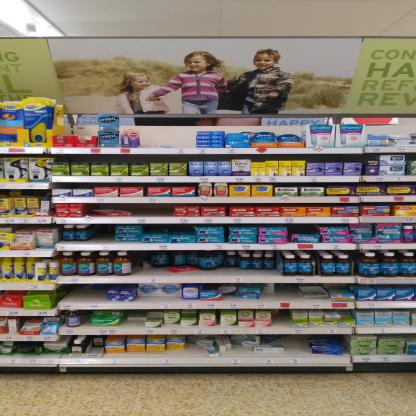Void: (141, 125, 194, 148), (59, 285, 104, 302), (202, 268, 282, 275), (135, 204, 175, 216), (264, 338, 310, 348), (145, 225, 190, 234), (88, 226, 112, 241), (278, 284, 298, 301), (292, 225, 320, 232), (276, 317, 289, 328), (142, 266, 160, 273), (122, 319, 141, 325)
